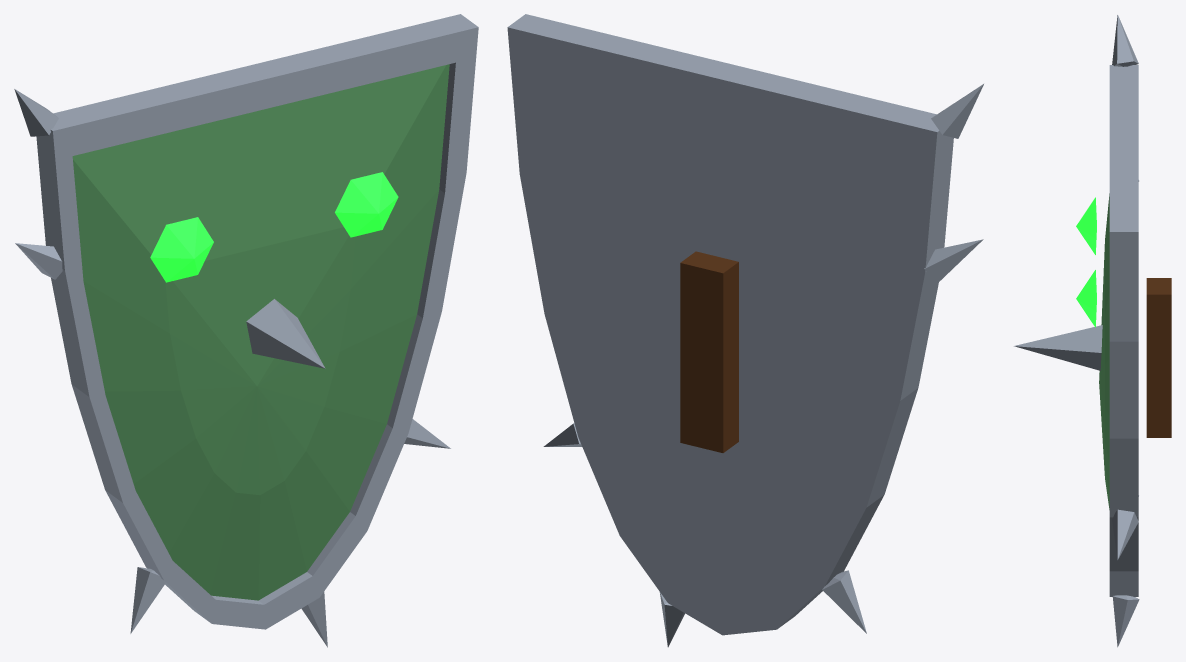
The model's file is shield_spiked_uncommon.glb.
3 views of the same model, side by side, from view 1: azimuth 30°, elevation 25°; view 2: azimuth 150°, elevation 25°; view 3: azimuth 270°, elevation 25° (orthographic). The views are drawn at different scales.
Parts seen in each view (by area): view 1: shield_spiked_uncommon_export; view 2: shield_spiked_uncommon_export; view 3: shield_spiked_uncommon_export.
Boxes of the visible parts, <box> form: shield_spiked_uncommon_export: <box>14,14,478,647</box>; shield_spiked_uncommon_export: <box>507,14,983,647</box>; shield_spiked_uncommon_export: <box>1014,15,1171,647</box>.
Bounding box in the file's own units: 64.74 × 85.6 × 24.
